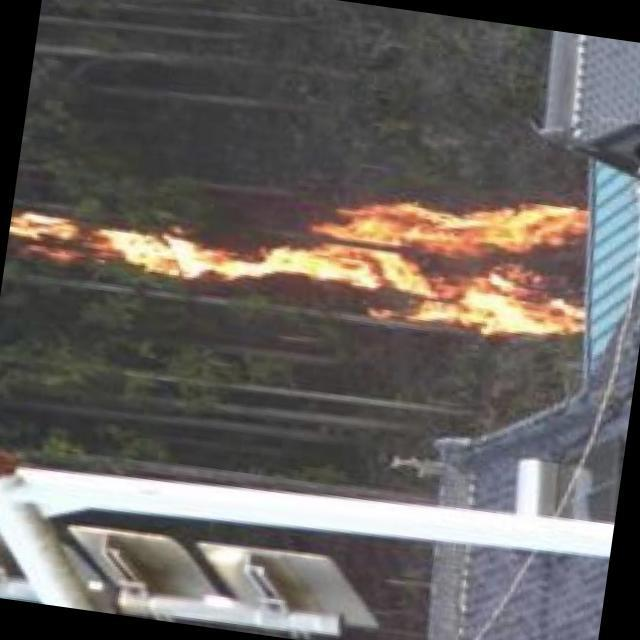Fire: (7, 130, 599, 352)
